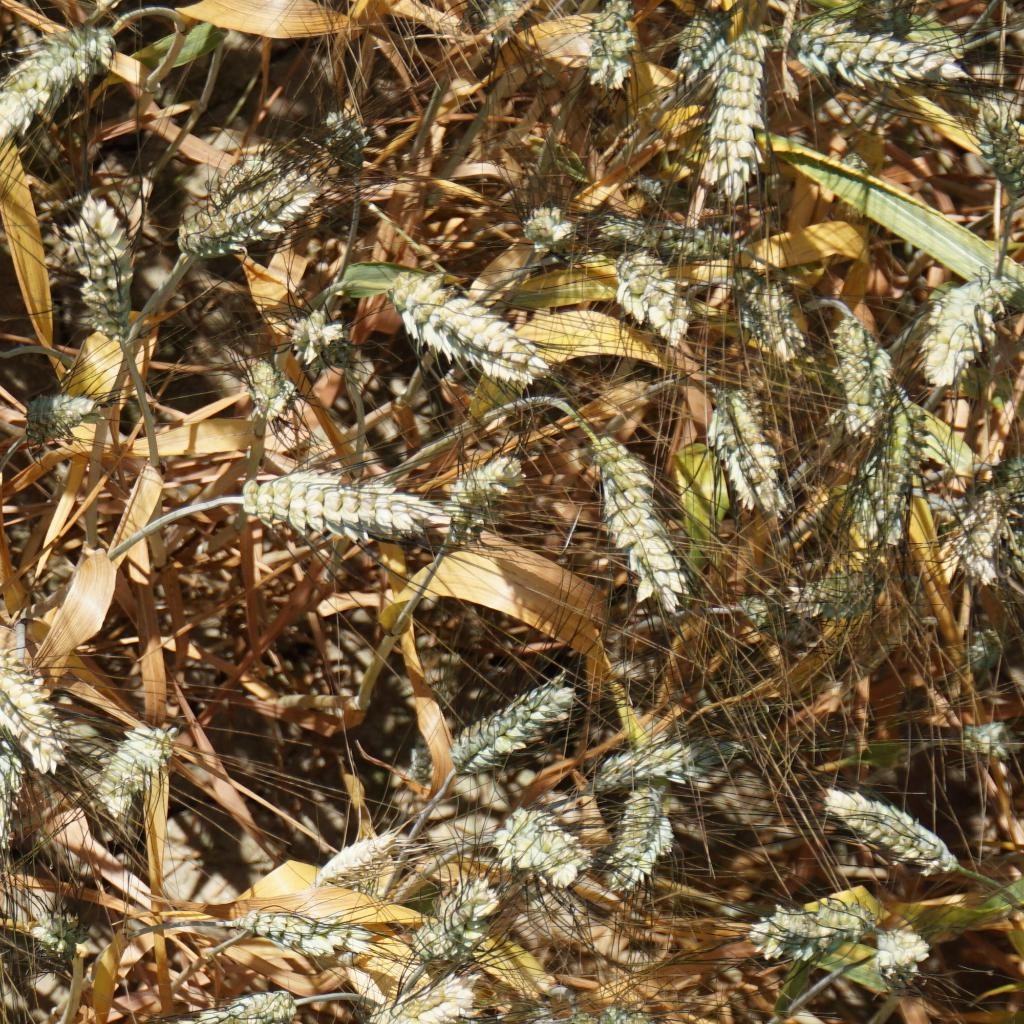0-0: (382, 269, 545, 391), (576, 429, 684, 611), (237, 470, 438, 547), (822, 783, 967, 886), (791, 19, 960, 103), (54, 181, 137, 337), (0, 37, 110, 153), (154, 174, 312, 253), (735, 564, 871, 645), (711, 28, 773, 205), (453, 678, 574, 766), (709, 386, 792, 510), (98, 717, 188, 826), (487, 801, 596, 886), (925, 263, 999, 388), (852, 424, 919, 562), (743, 884, 871, 951), (232, 907, 363, 969), (949, 471, 1018, 585), (0, 648, 68, 762), (584, 728, 730, 781), (604, 786, 671, 892), (350, 967, 474, 1024), (621, 250, 701, 335), (445, 457, 524, 543), (226, 342, 303, 429), (608, 212, 733, 264), (834, 306, 892, 418), (5, 375, 99, 444), (580, 0, 643, 102), (413, 879, 492, 957), (188, 131, 281, 196), (965, 96, 1024, 195), (735, 273, 806, 355), (863, 925, 933, 997), (310, 105, 371, 186), (666, 5, 716, 102), (302, 826, 389, 880), (166, 990, 303, 1024), (31, 900, 88, 967), (951, 711, 1015, 769), (275, 304, 349, 352), (519, 200, 583, 251), (479, 0, 532, 52), (395, 730, 438, 794), (587, 995, 677, 1024), (954, 624, 995, 674)
